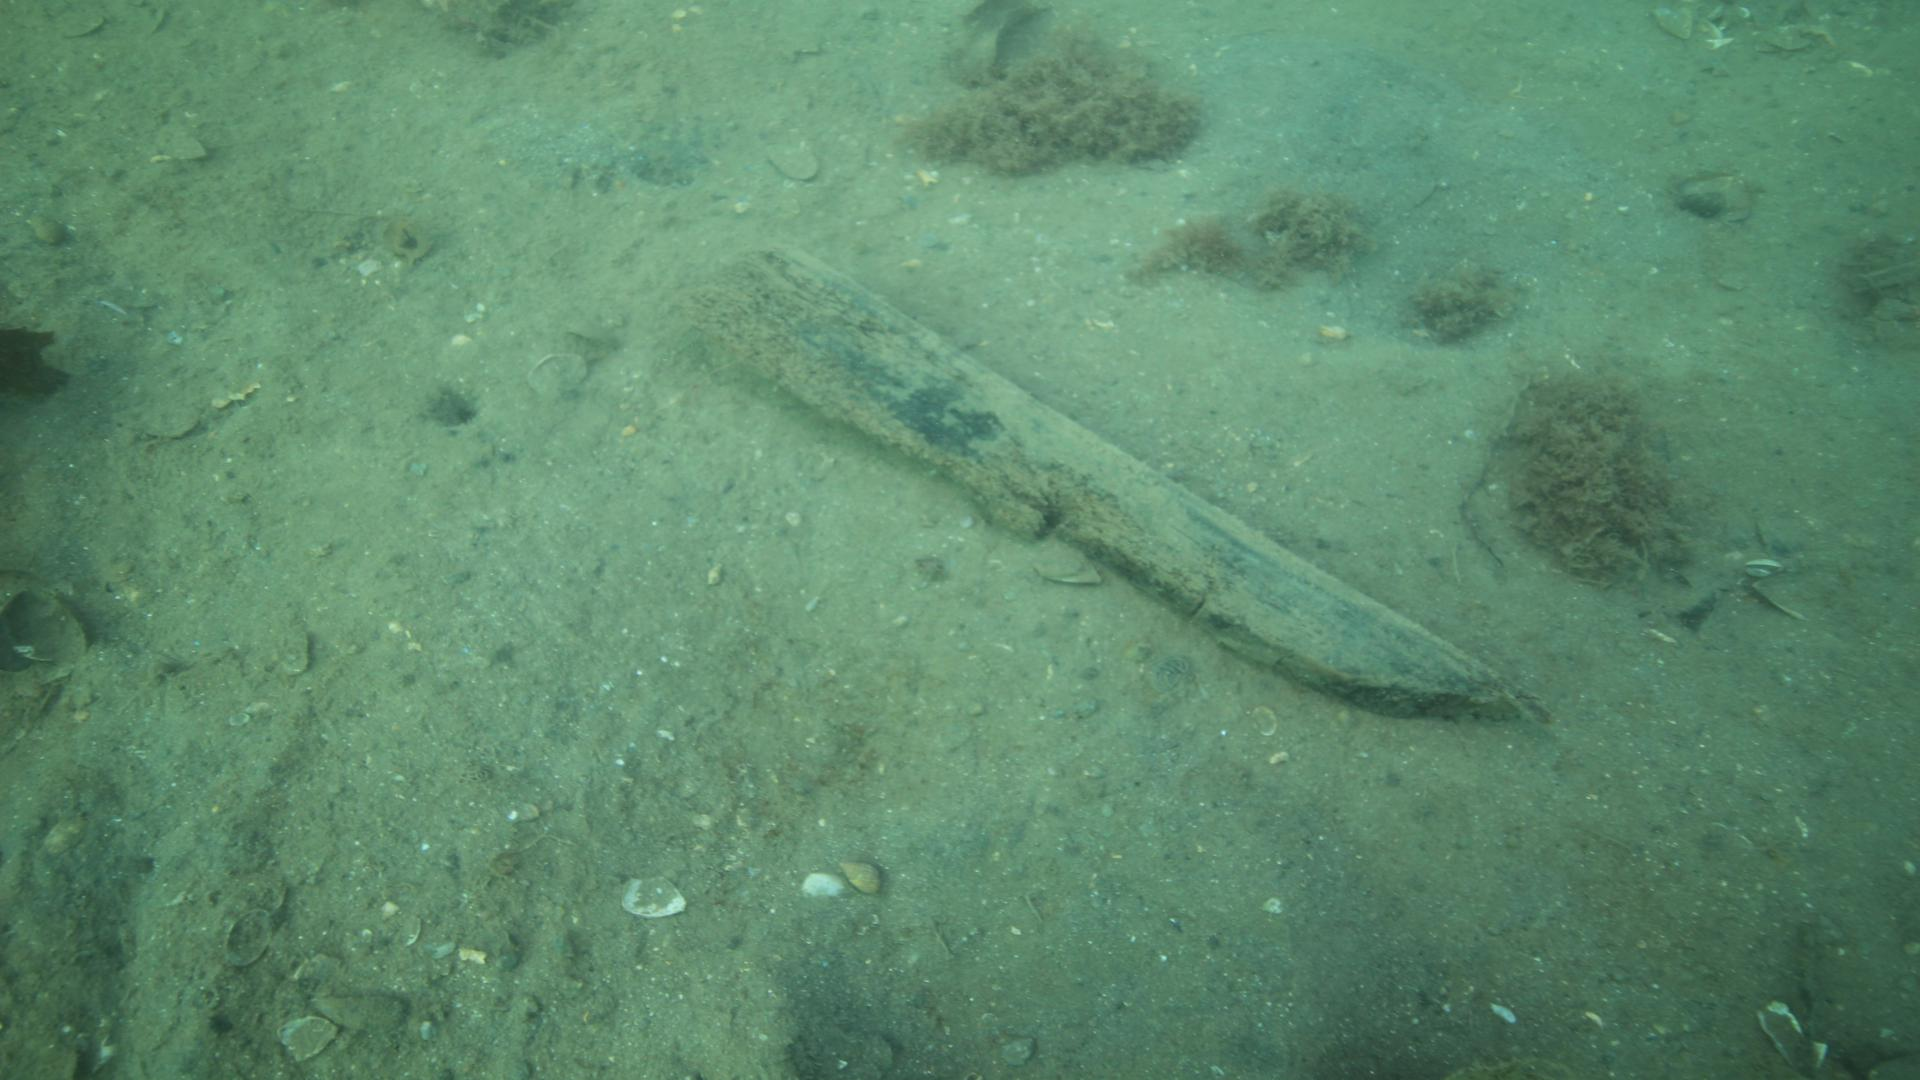wood: (680, 239, 1553, 724)
